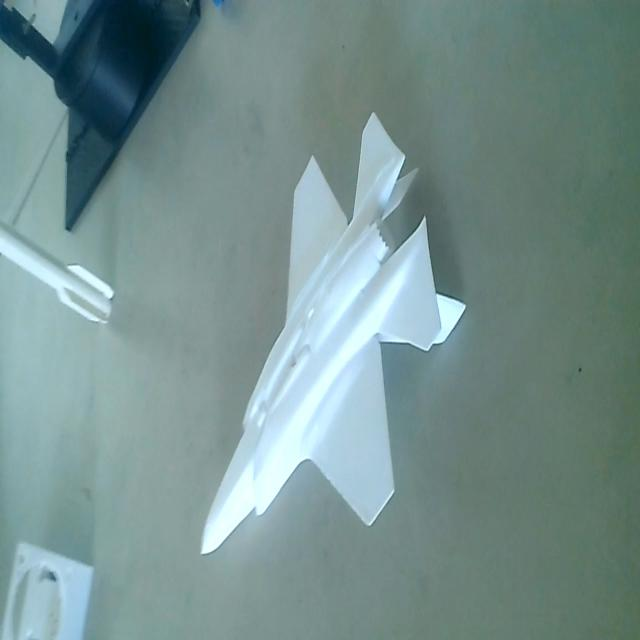Jet: (194, 106, 470, 569)
Rocket: (0, 222, 116, 337)
